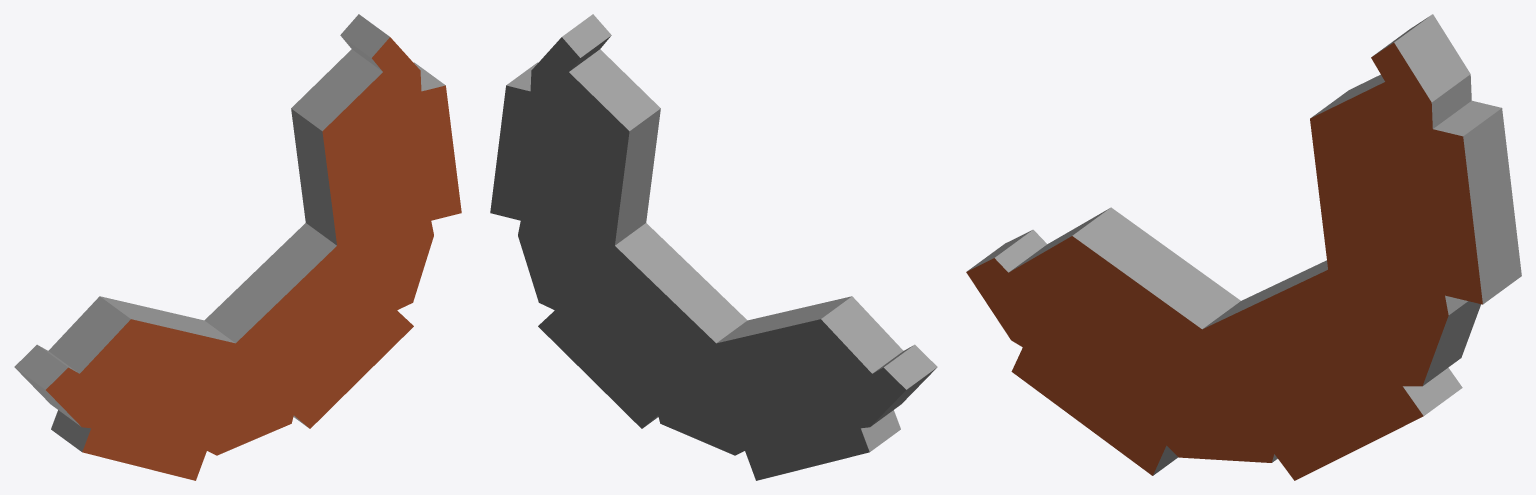
The model's file is construction_3331_assumed_A_Casa_h6m.obj.
The picture shows the model from 3 angles, left to right: view 1: azimuth 30°, elevation 25°; view 2: azimuth 150°, elevation 25°; view 3: azimuth 330°, elevation 25°; orthographic projection. The views are drawn at different scales.
Visible parts, largest first — view 1: construction_3331_assumed_A_Casa; view 2: construction_3331_assumed_A_Casa; view 3: construction_3331_assumed_A_Casa.
Boxes of the visible parts, left/top/right/bottom form: construction_3331_assumed_A_Casa: left=14, top=14, right=461, bottom=480; construction_3331_assumed_A_Casa: left=490, top=14, right=937, bottom=480; construction_3331_assumed_A_Casa: left=966, top=14, right=1521, bottom=480.
Bounding box in the file's own units: 45.96 × 41.85 × 6.
